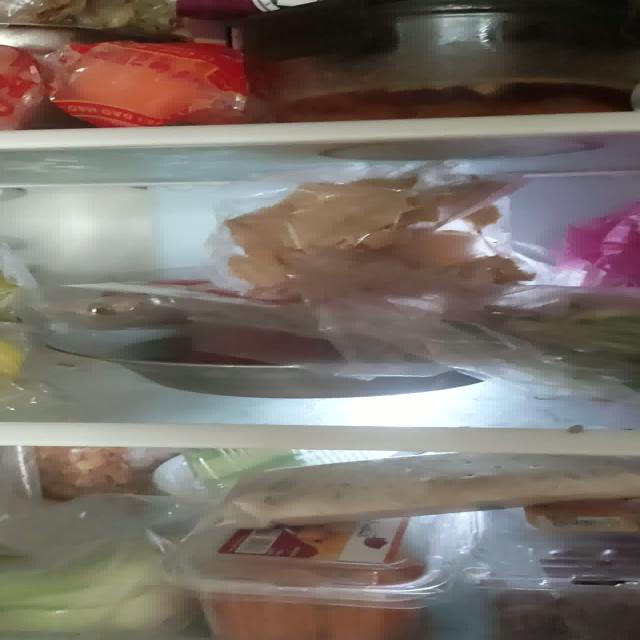orange: (49, 41, 250, 128)
tempeh: (220, 452, 640, 528)
